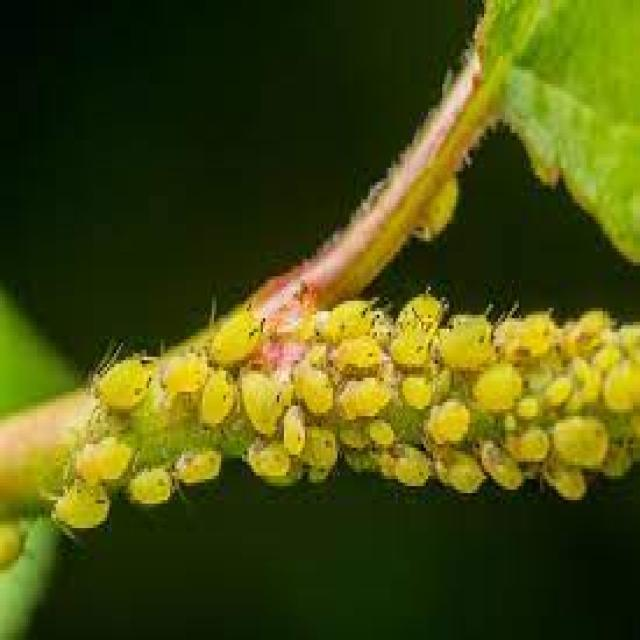aphid: (42, 479, 112, 538), (90, 350, 154, 414), (208, 298, 268, 366), (551, 414, 612, 474), (436, 310, 494, 373), (234, 370, 286, 438), (470, 358, 526, 416), (480, 438, 526, 507), (544, 456, 594, 518), (334, 376, 396, 424), (501, 302, 554, 357), (239, 432, 294, 484), (322, 289, 378, 338), (290, 364, 337, 421), (72, 437, 131, 482), (424, 400, 476, 450), (396, 281, 448, 331), (378, 446, 432, 494), (297, 429, 344, 482), (125, 466, 177, 512), (603, 353, 640, 416), (172, 450, 227, 490), (196, 370, 232, 430), (390, 326, 433, 374), (331, 336, 383, 373), (166, 349, 206, 397), (270, 302, 314, 344), (572, 351, 602, 409), (509, 430, 552, 468), (570, 305, 614, 338), (534, 374, 574, 410), (282, 404, 306, 456), (368, 418, 398, 457), (514, 389, 544, 421)
